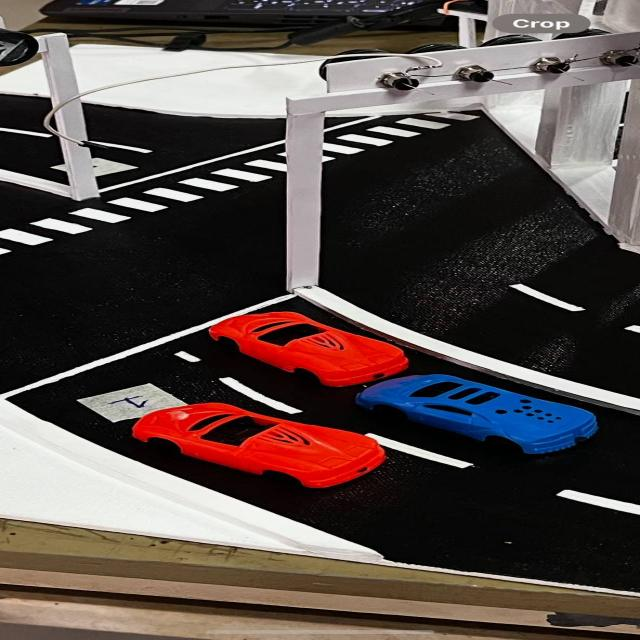car: (96, 390, 390, 492), (344, 371, 606, 459), (194, 306, 421, 380)
